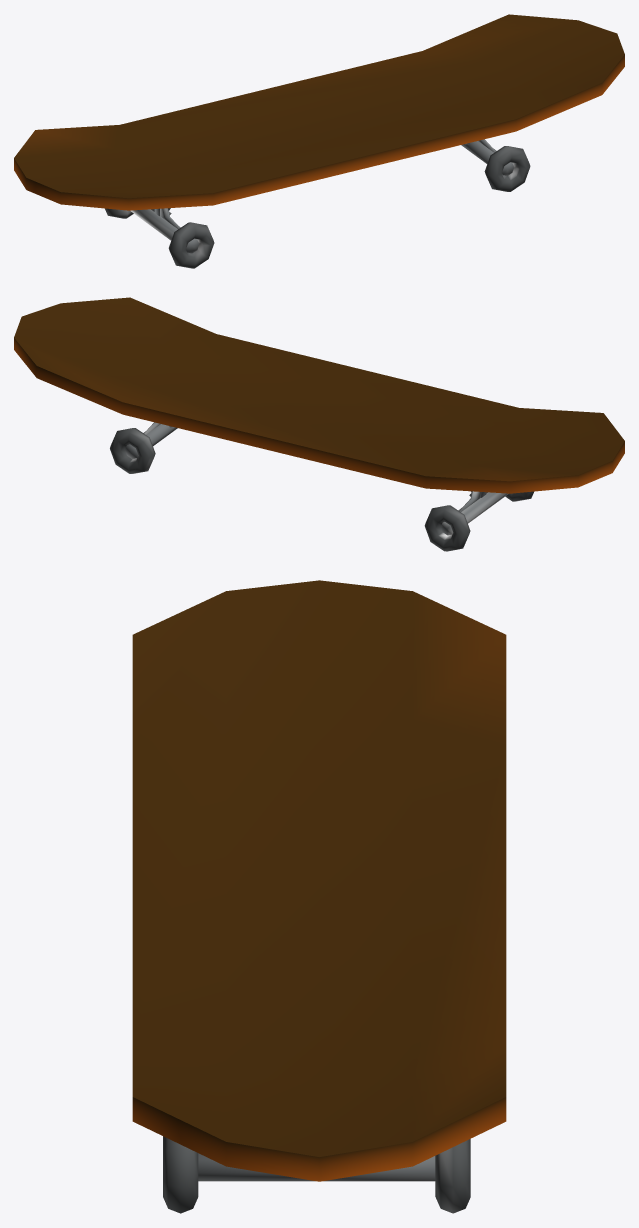
File: Skate.fbx
The picture shows the model from 3 angles, top to bottom: view 1: azimuth 30°, elevation 25°; view 2: azimuth 150°, elevation 25°; view 3: azimuth 270°, elevation 25°; orthographic projection. The views are drawn at different scales.
Parts seen in each view (by area): view 1: Skate; view 2: Skate; view 3: Skate.
Part boxes in pixels (left/top/right/bottom): Skate: left=14, top=14, right=624, bottom=268; Skate: left=14, top=297, right=624, bottom=551; Skate: left=132, top=580, right=506, bottom=1213.
Size of the model in its own units: 59.99 by 9.49 by 16.42.
